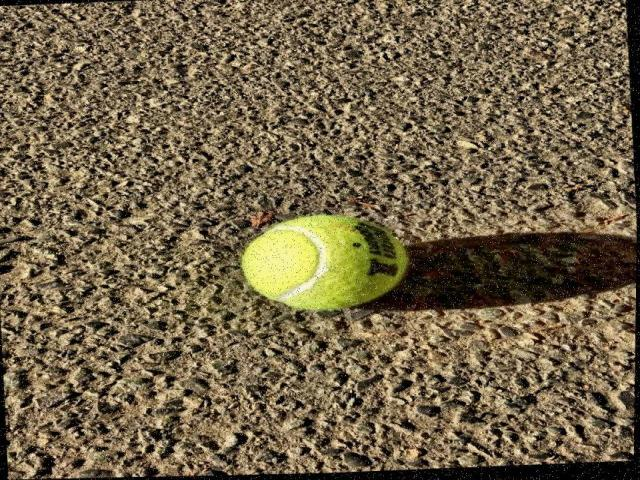tennis-ball: (241, 214, 408, 312)
